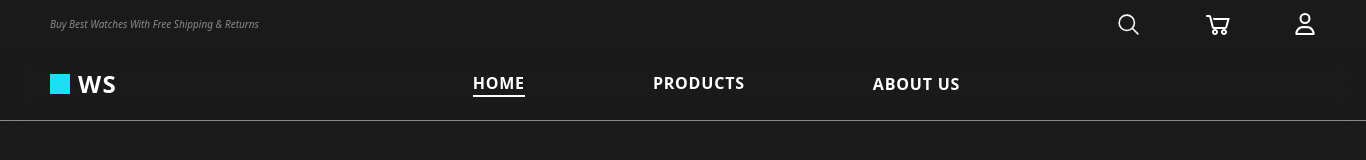
Test case: Navbar Component › shows search bar when search button is clicked
The image size is (1366, 160).
Click the button named "search". click: x=1128, y=24
box: [1116, 12, 1141, 36]
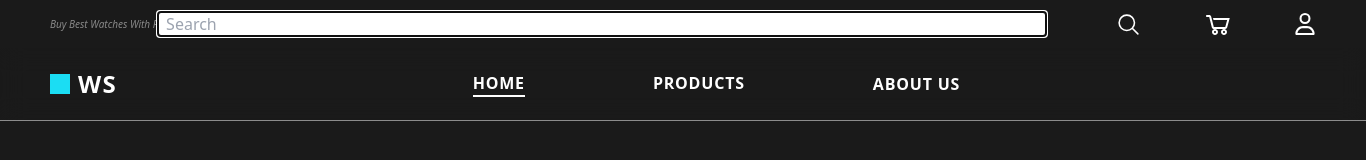
Now the field with placeholder "Search" is shown, box [158, 12, 1046, 36]
